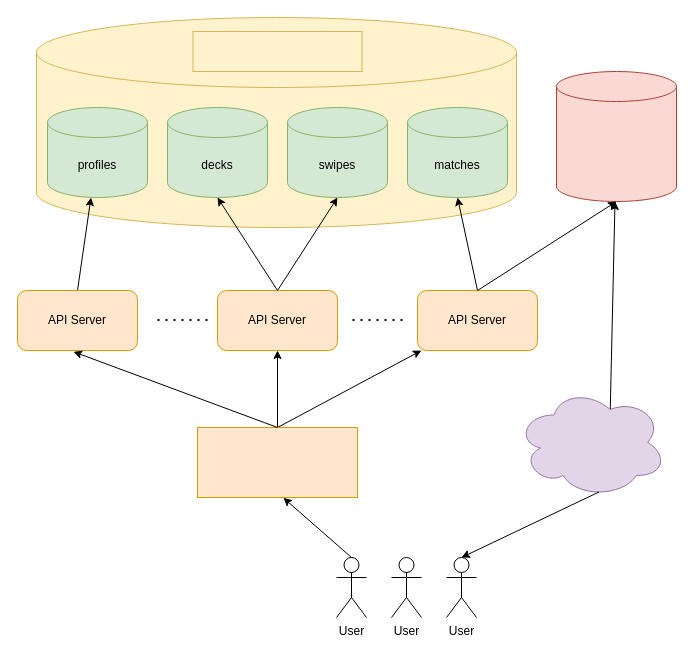
The diagram is 694 pixels wide and 656 high, and some of its shapes have lost their labels. The shapes that lost their labels are listed below. From the top down, each one's centre as x and y in pixels, then its label:
[277,51]: Relational Database
[616,136]: Global Image Blob Store
[277,462]: Load Balancer Round Robin
[591,442]: Image CDN
